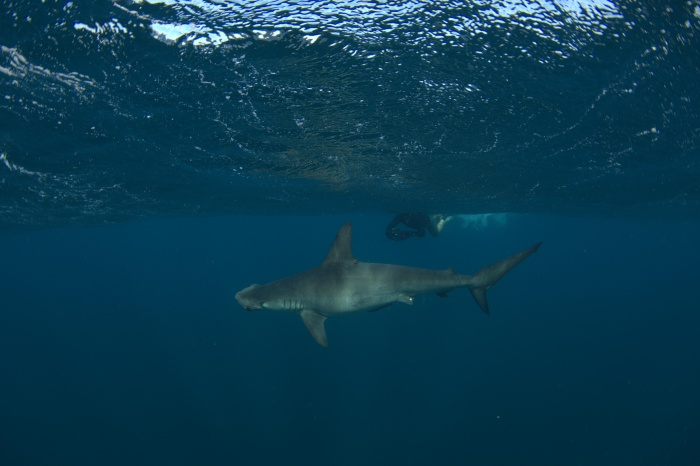Hammer: (222, 212, 556, 374)
